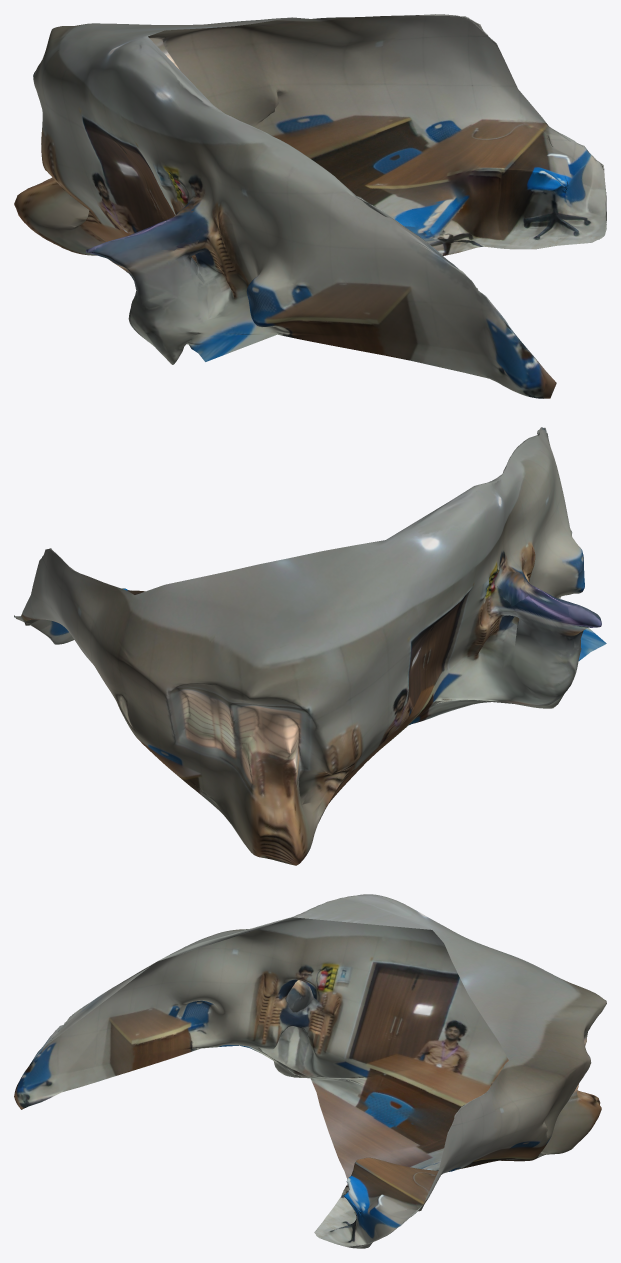
File: survey_20260930145253_.glb
The picture shows the model from 3 angles, top to bottom: view 1: azimuth 30°, elevation 25°; view 2: azimuth 150°, elevation 25°; view 3: azimuth 270°, elevation 25°; orthographic projection. The views are drawn at different scales.
Parts seen in each view (by area): view 1: 3DModel; view 2: 3DModel; view 3: 3DModel.
Boxes of the visible parts, x1,y1,x2,y2 form: 3DModel: (14,14,606,398); 3DModel: (14,427,606,865); 3DModel: (14,894,606,1248).
Bounding box in the file's own units: 1.54 × 0.8019 × 1.89.
1 material, 1 textured.
